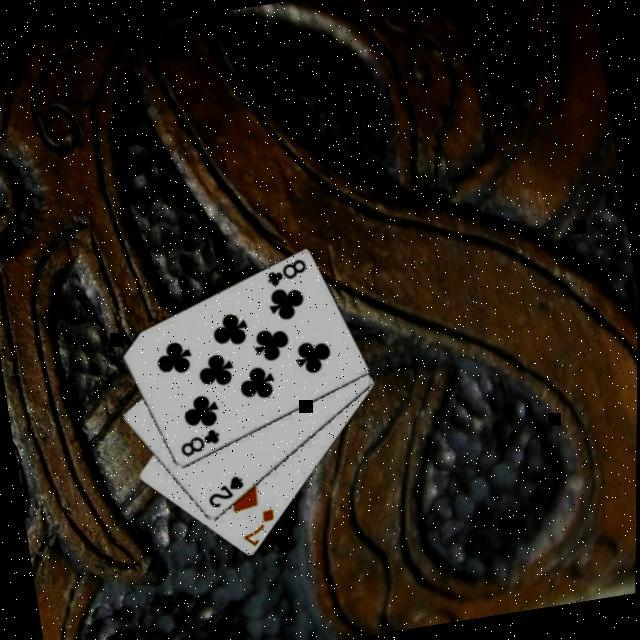2S: (202, 474, 248, 514)
7D: (235, 508, 281, 552)
8C: (174, 426, 224, 464), (260, 258, 310, 292)
